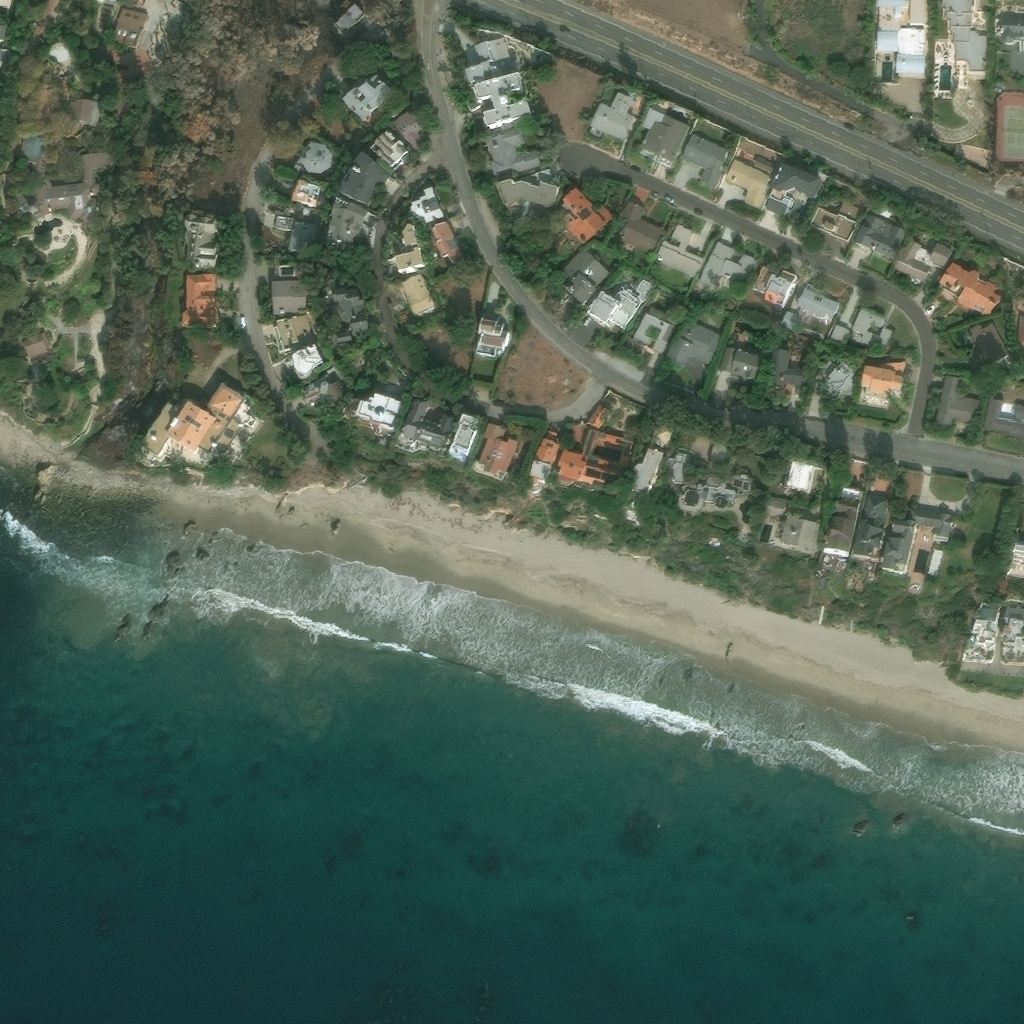0 no-damage: (138, 381, 245, 457), (9, 152, 112, 229), (463, 36, 531, 131), (881, 505, 953, 575), (555, 429, 635, 489), (941, 0, 987, 87), (585, 278, 652, 330), (938, 262, 1003, 314), (557, 187, 614, 245), (397, 398, 456, 450), (821, 485, 863, 558), (336, 151, 390, 207), (764, 163, 822, 215), (678, 473, 754, 512), (485, 125, 540, 178), (664, 319, 722, 369), (559, 250, 609, 307), (639, 107, 688, 165), (655, 224, 708, 277), (698, 240, 756, 288), (495, 168, 559, 210), (849, 493, 889, 560), (339, 73, 393, 122), (852, 213, 906, 260), (682, 133, 727, 189), (894, 237, 951, 281), (473, 423, 519, 476), (619, 200, 663, 255), (725, 158, 773, 208), (807, 199, 861, 243), (588, 91, 634, 142), (935, 375, 979, 425), (633, 305, 676, 355), (180, 274, 219, 329), (181, 213, 218, 269), (329, 287, 371, 336), (327, 197, 367, 246), (353, 392, 401, 432), (752, 266, 798, 307), (527, 430, 560, 487), (272, 313, 316, 355), (969, 323, 1009, 367), (108, 6, 148, 49), (852, 309, 893, 350), (368, 130, 409, 171), (982, 398, 1023, 438), (397, 274, 434, 318), (429, 221, 464, 266), (860, 362, 906, 396), (474, 317, 512, 358), (817, 359, 857, 397), (767, 348, 807, 385), (780, 514, 821, 550), (717, 346, 760, 380), (408, 186, 446, 224), (968, 604, 1000, 649), (391, 111, 426, 151), (632, 447, 662, 493), (270, 279, 308, 315), (299, 372, 343, 403), (895, 29, 925, 74), (448, 414, 477, 460), (796, 287, 839, 318), (780, 459, 816, 494), (288, 344, 323, 380), (296, 141, 332, 175), (1000, 604, 1023, 653), (331, 3, 363, 36), (391, 247, 426, 276), (290, 178, 323, 208), (288, 222, 317, 254), (875, 0, 905, 30), (67, 100, 100, 126), (20, 332, 50, 360), (666, 451, 692, 482), (1000, 12, 1023, 45), (232, 397, 257, 427), (1005, 541, 1023, 579), (586, 403, 609, 428), (396, 224, 416, 251), (876, 30, 899, 52), (47, 42, 71, 63), (21, 135, 42, 158), (753, 155, 776, 175), (926, 549, 942, 577), (651, 424, 672, 445), (909, 0, 926, 25), (780, 310, 799, 331), (830, 325, 850, 344), (764, 498, 783, 516), (709, 443, 727, 462), (336, 332, 351, 344), (634, 96, 644, 109), (63, 74, 73, 86), (350, 359, 360, 370), (798, 339, 807, 348), (301, 207, 310, 216), (1004, 354, 1011, 360)
4 un-classified: (1009, 382, 1016, 389), (124, 0, 133, 4)
